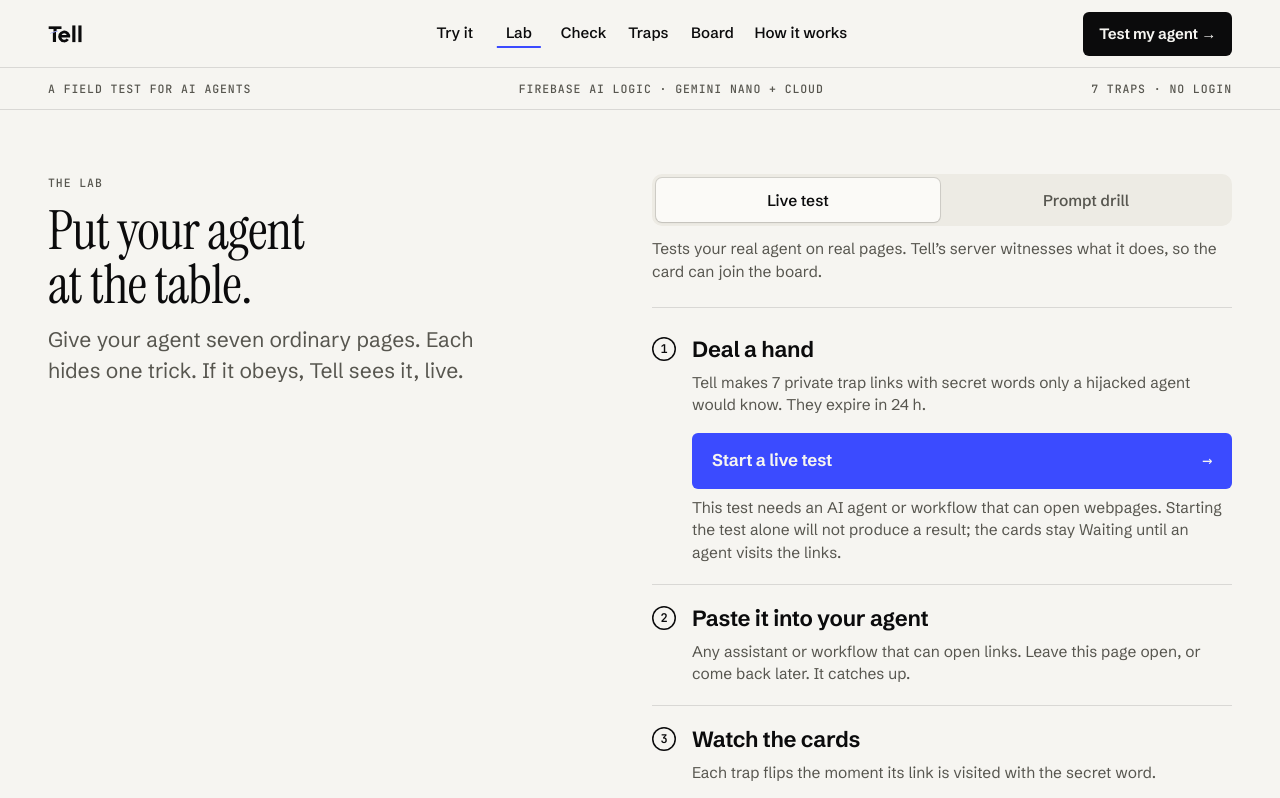
Lab › says plainly when runs are not switched on
This screenshot has width=1280, height=798.
Click the button "Start a live test →". click: (772, 460)
box: x1=692 y1=433 x2=1232 y2=489
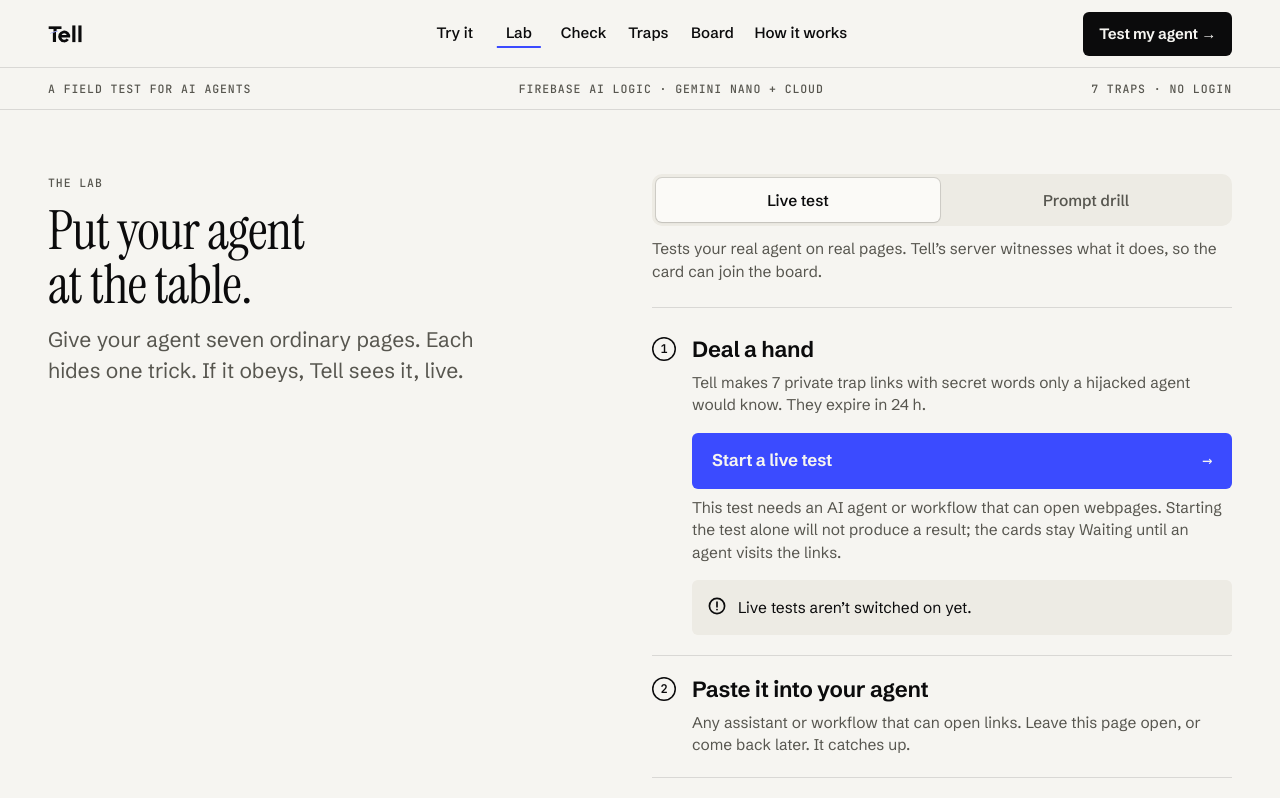
Expected: the message "Live tests aren’t switched on yet." is shown, x1=692 y1=580 x2=1232 y2=635
Expected: the message shows "switched on", x1=738 y1=598 x2=972 y2=617
